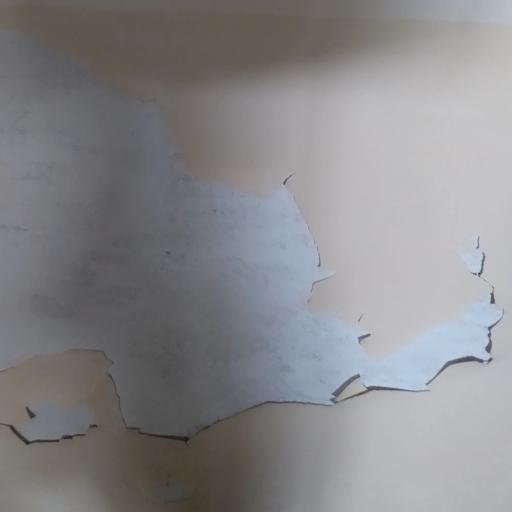peeling: (0, 0, 511, 474)
